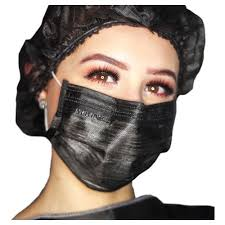with_mask_and_cap: (36, 4, 184, 191)
